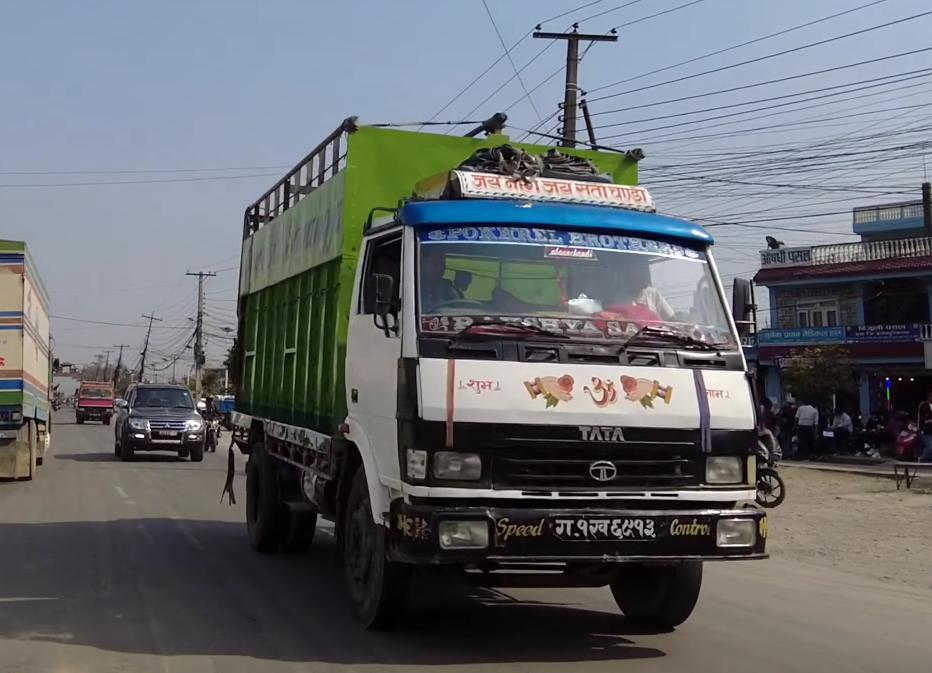SUV: (112, 379, 209, 467)
mini_truck: (73, 376, 116, 427)
truck: (229, 111, 779, 631), (0, 238, 52, 481)
